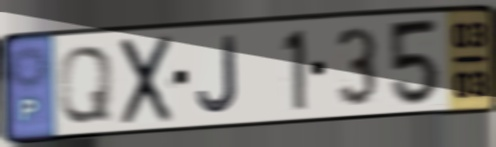1: (279, 27, 310, 114)
3: (333, 24, 380, 108)
5: (388, 15, 447, 109)
J: (194, 33, 241, 117)
Q: (56, 43, 115, 126)
X: (119, 32, 175, 129)
